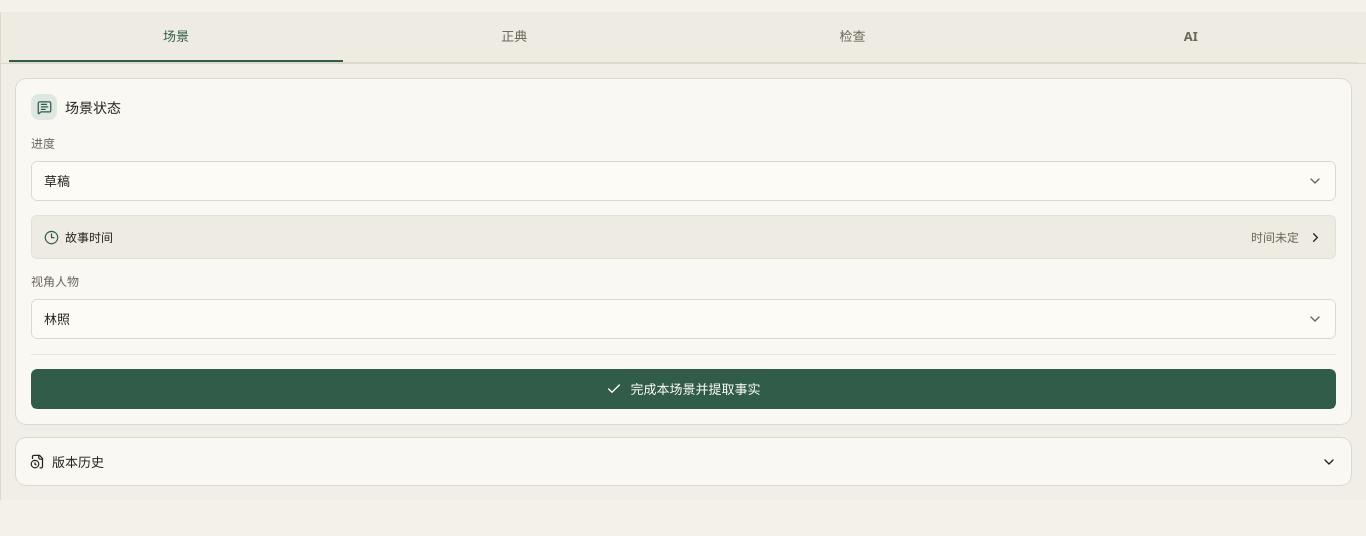
Test case: Inspector knowledge panel › labels the default AI provider as a non-networked demo before generation
Click the tab "AI". click: [1191, 37]
box: [1024,12,1358,62]
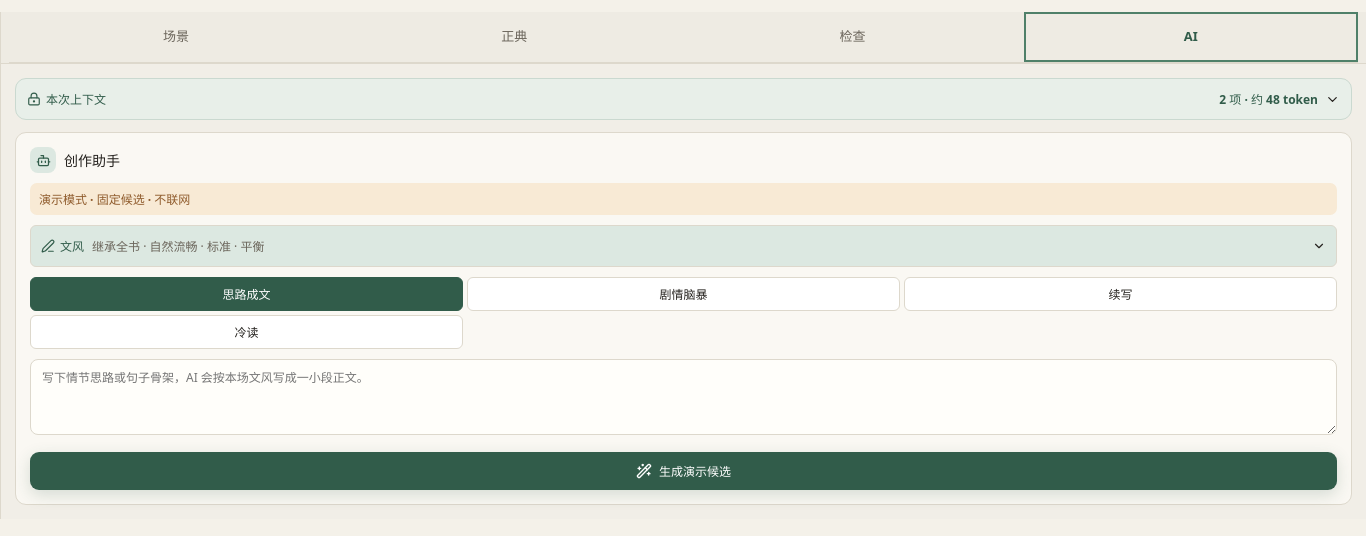
Expected: the text "演示模式 · 固定候选 · 不联网" is shown, [30,183,1337,215]
Expected: the button "生成演示候选" is shown, [30,452,1337,490]
